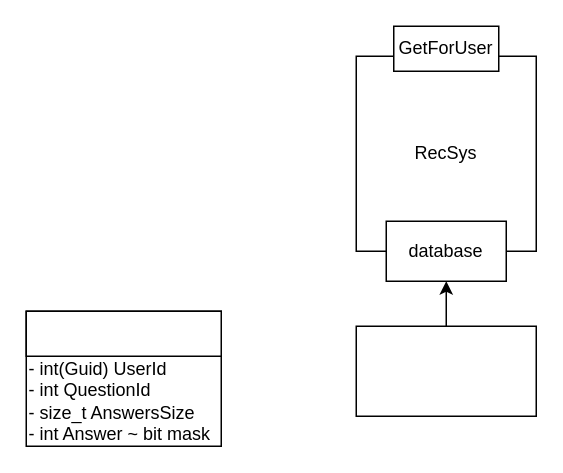
This 563x473 diagram has some shape labels left out. Each missing label, with the centre of its shape:
"Answer" goes at pixel 123 333.
"DB with answers" goes at pixel 445 370.
